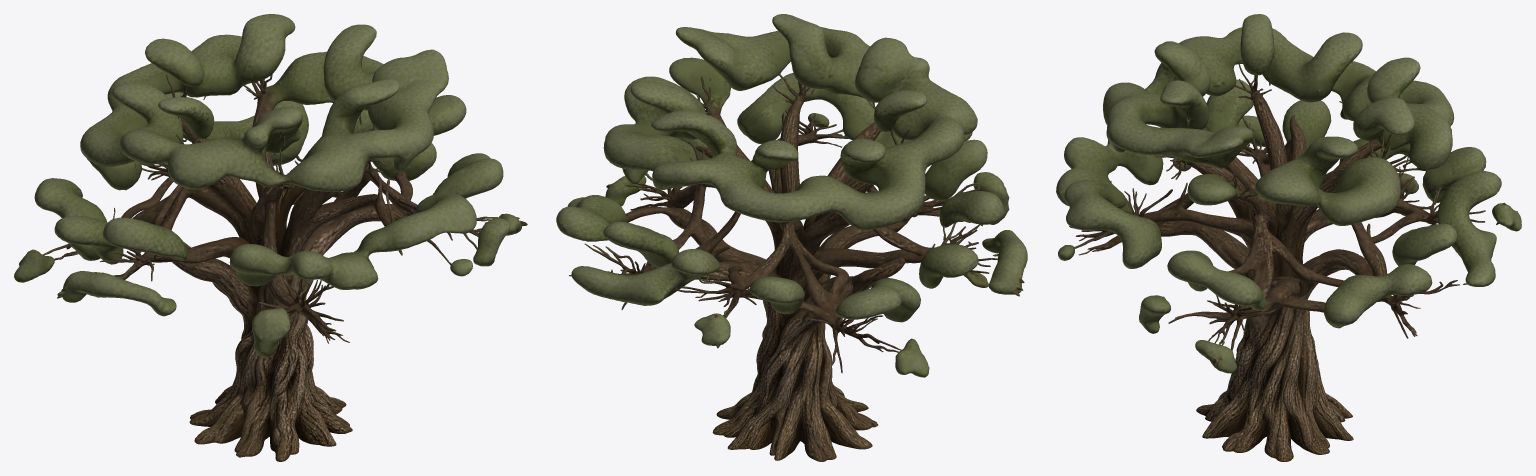
File: oak.glb
The picture shows the model from 3 angles, left to right: view 1: azimuth 30°, elevation 25°; view 2: azimuth 150°, elevation 25°; view 3: azimuth 270°, elevation 25°; orthographic projection.
Parts seen in each view (by area): view 1: tripo_node_be630ca0-268d-49b7-943b-0a5b2beb9c95; view 2: tripo_node_be630ca0-268d-49b7-943b-0a5b2beb9c95; view 3: tripo_node_be630ca0-268d-49b7-943b-0a5b2beb9c95.
Part boxes in pixels (x1,y1,x2,y2): tripo_node_be630ca0-268d-49b7-943b-0a5b2beb9c95: (14,14,527,461); tripo_node_be630ca0-268d-49b7-943b-0a5b2beb9c95: (556,14,1027,461); tripo_node_be630ca0-268d-49b7-943b-0a5b2beb9c95: (1056,14,1521,461).
Size of the model in its own units: 0.9847 by 0.7723 by 0.8973.
Materials: 1 (1 with a texture image).
